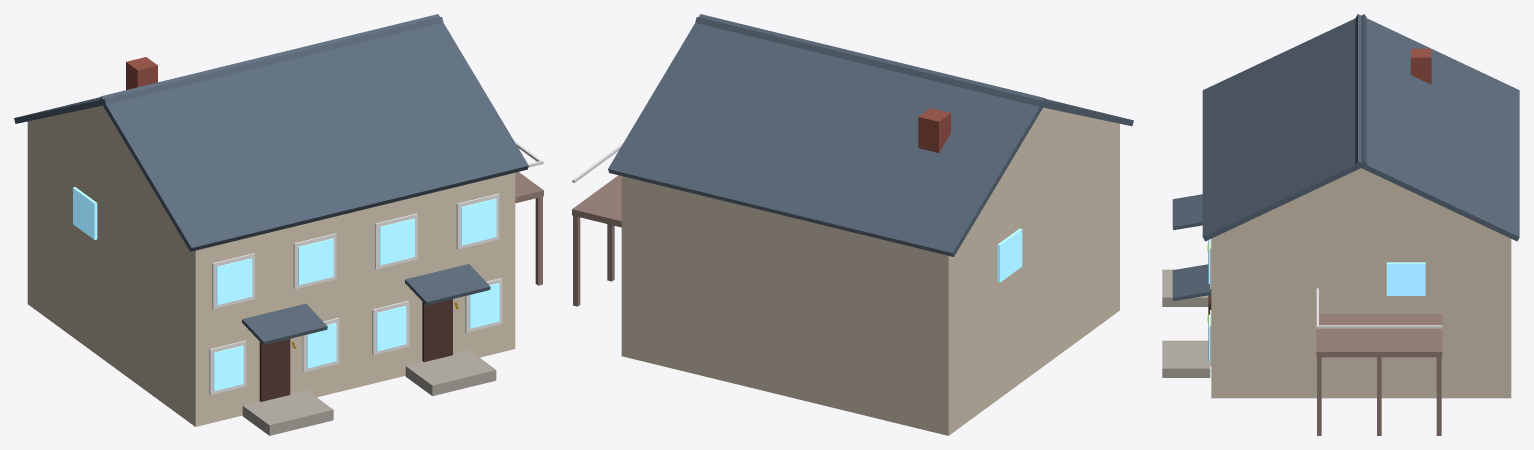
The model's file is town_duplex.glb.
3 views of the same model, side by side, from view 1: azimuth 30°, elevation 25°; view 2: azimuth 150°, elevation 25°; view 3: azimuth 270°, elevation 25° (orthographic). The views are drawn at different scales.
Visible parts, largest first — view 1: TownDuplex_body; view 2: TownDuplex_body; view 3: TownDuplex_body.
Boxes of the visible parts, box(x1,y1,x2,y2) form: TownDuplex_body: box(14, 14, 543, 435); TownDuplex_body: box(572, 14, 1133, 435); TownDuplex_body: box(1162, 14, 1519, 435).
Bounding box in the file's own units: 14.3 × 8.88 × 11.93.
